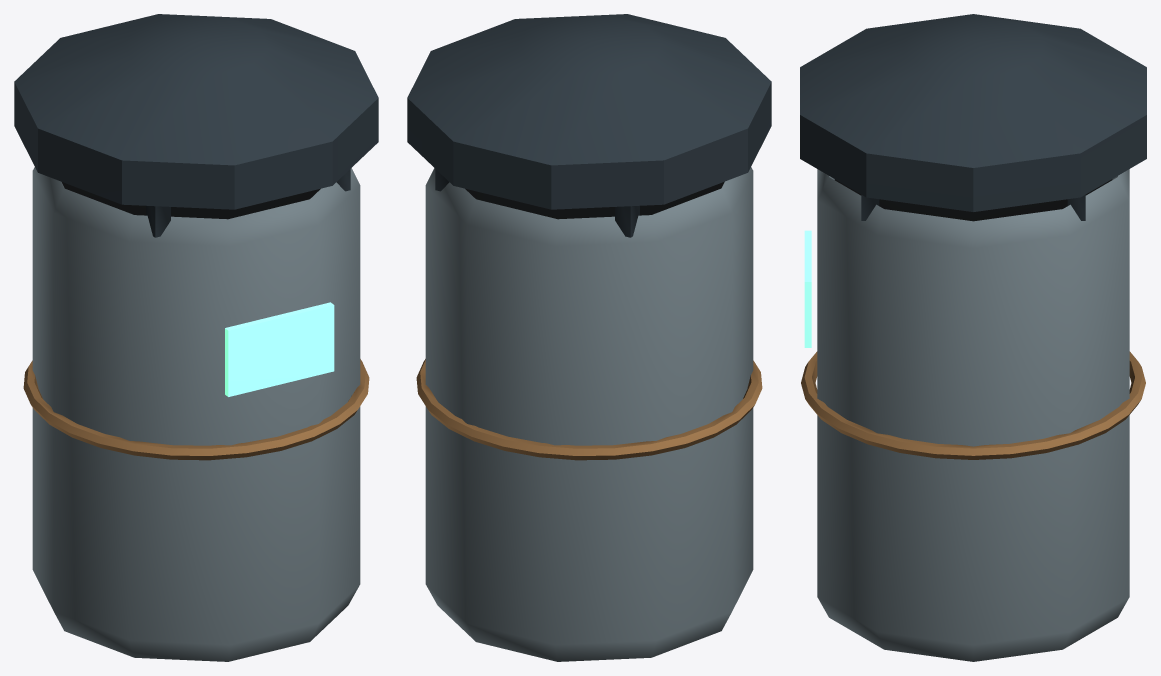
Rendered from litter-bin.lod1.glb.
3 views of the same model, side by side, from view 1: azimuth 30°, elevation 25°; view 2: azimuth 150°, elevation 25°; view 3: azimuth 270°, elevation 25° (orthographic).
Parts seen in each view (by area): view 1: structure; view 2: structure; view 3: structure.
Boxes of the visible parts, x1=… form: structure: x1=14, y1=14, x2=378, y2=661; structure: x1=407, y1=14, x2=771, y2=661; structure: x1=800, y1=14, x2=1146, y2=661.
Size of the model in its own units: 0.6 by 1.01 by 0.5706.
